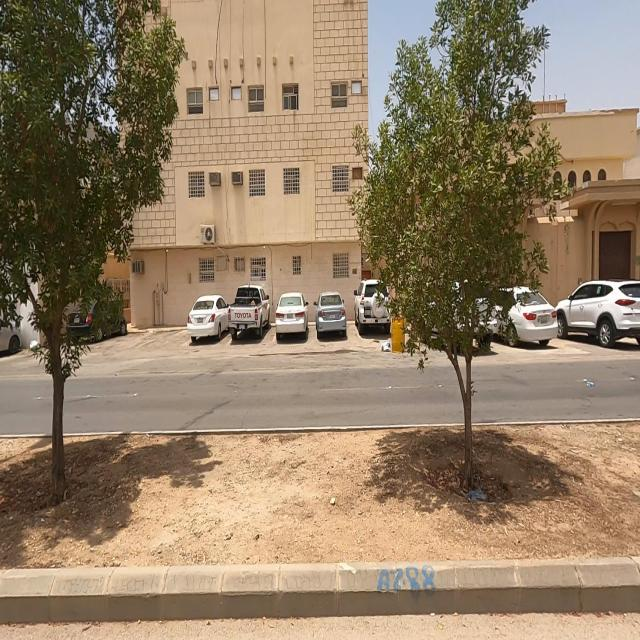Graffiti: (378, 564, 438, 597)
